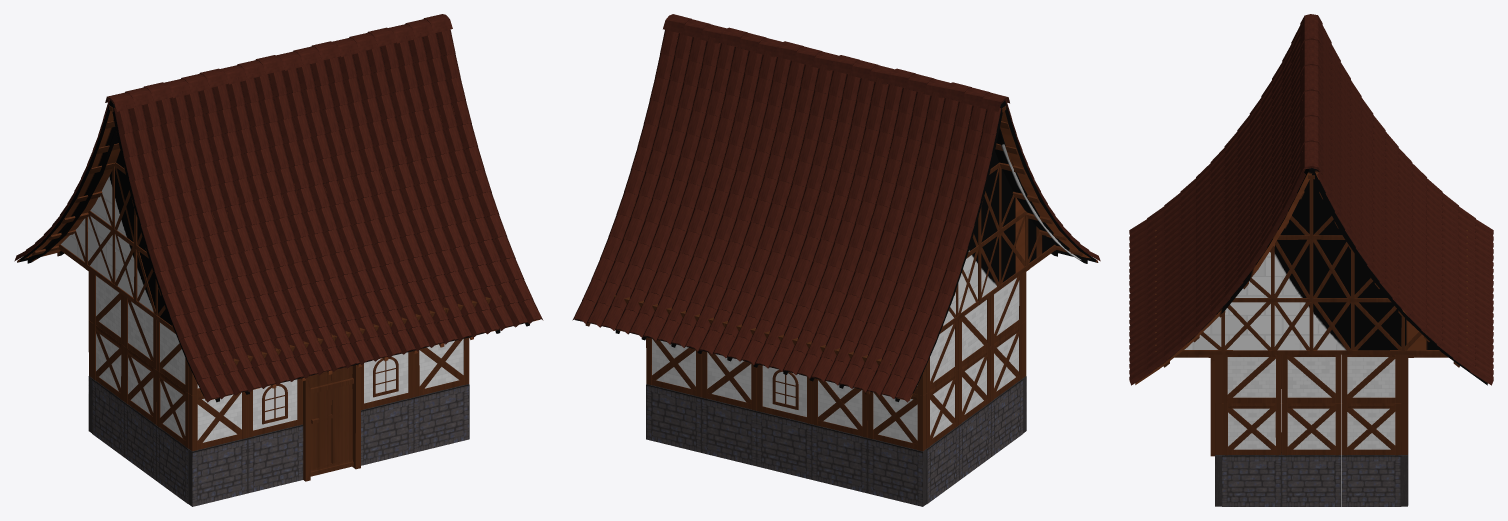
File: House3_LOD2.fbx
The picture shows the model from 3 angles, left to right: view 1: azimuth 30°, elevation 25°; view 2: azimuth 150°, elevation 25°; view 3: azimuth 270°, elevation 25°; orthographic projection. The views are drawn at different scales.
Parts seen in each view (by area): view 1: House3_LOD2; view 2: House3_LOD2; view 3: House3_LOD2.
Boxes of the visible parts, x1=… form: House3_LOD2: x1=14, y1=14, x2=543, y2=506; House3_LOD2: x1=572, y1=14, x2=1100, y2=506; House3_LOD2: x1=1129, y1=14, x2=1493, y2=506.
Bounding box in the file's own units: 1285 × 1384 × 1292.
